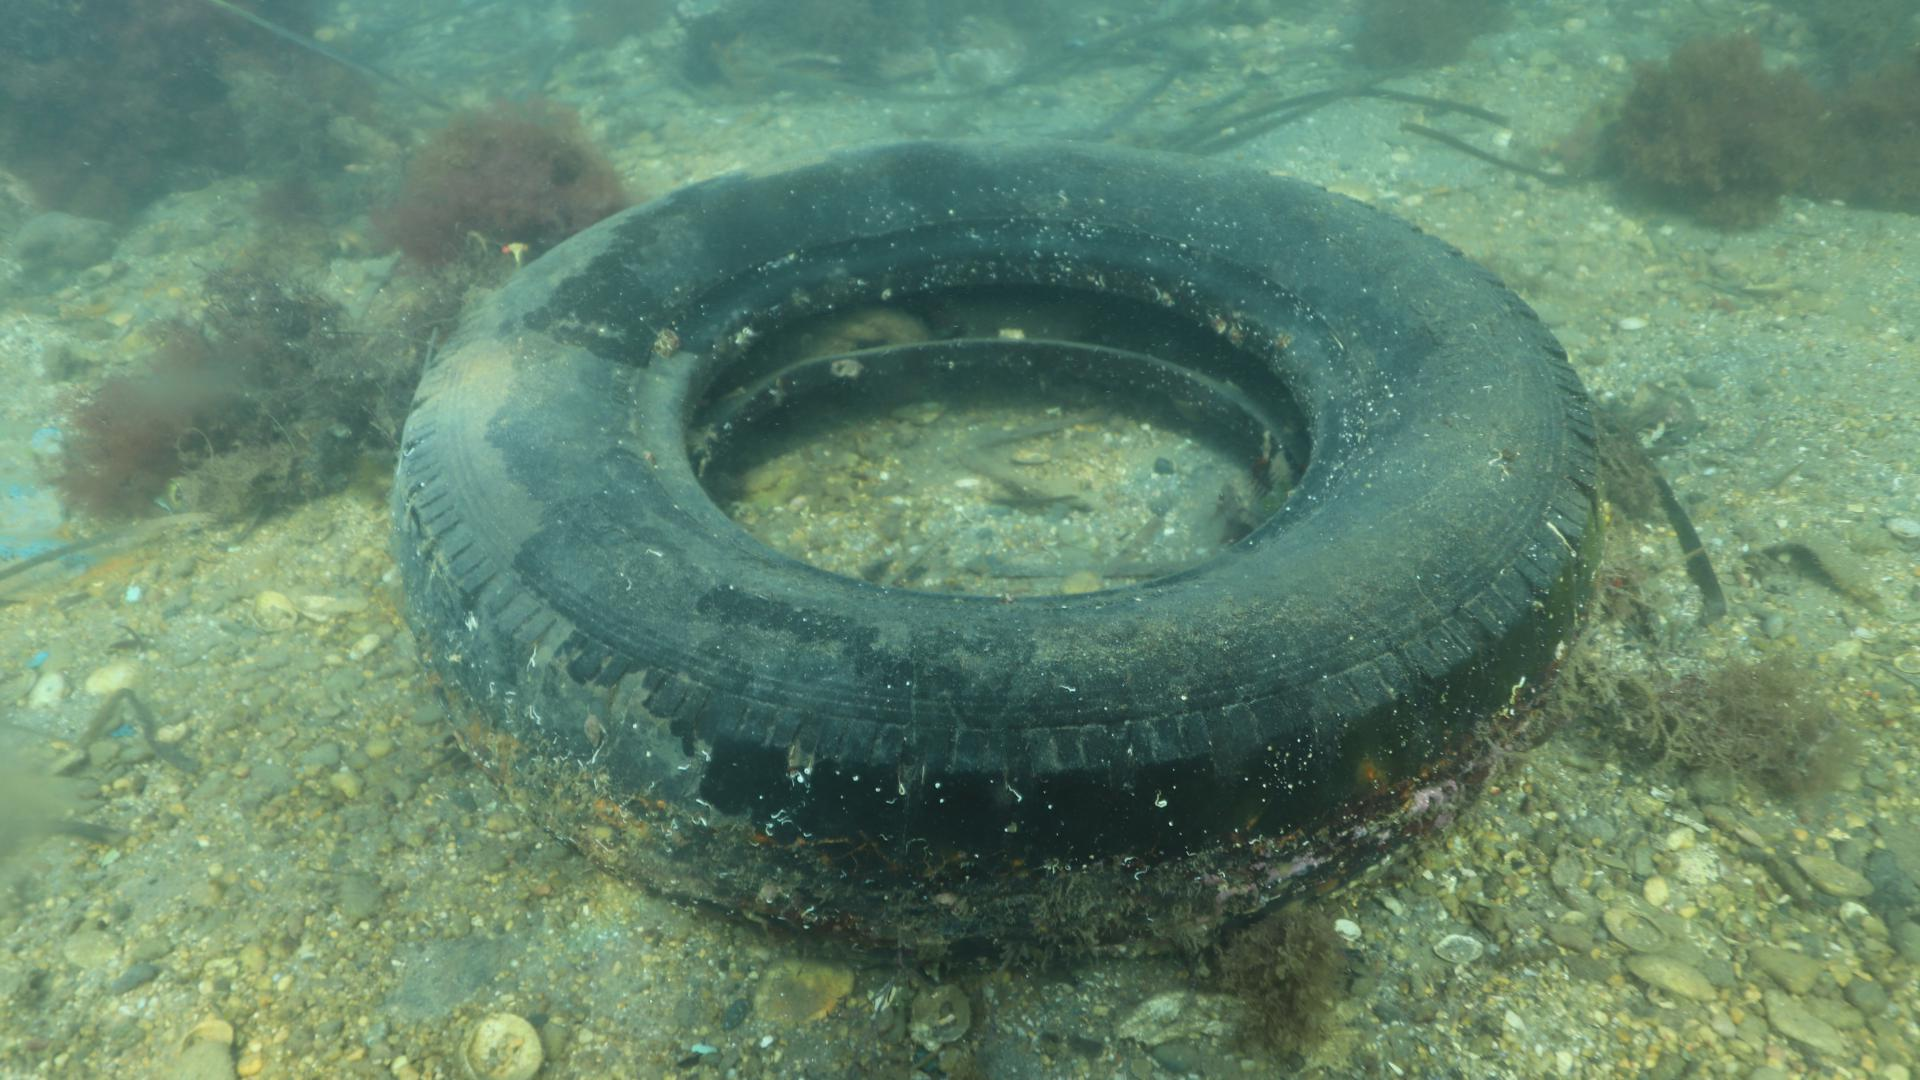tire: (390, 136, 1602, 967)
